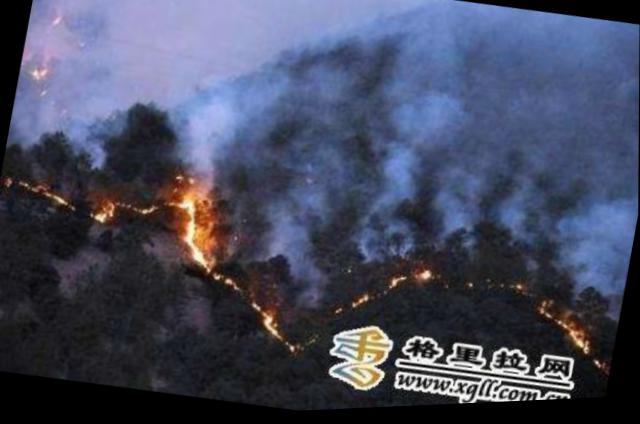fire: (0, 151, 322, 363), (493, 273, 614, 375), (332, 251, 444, 320)
